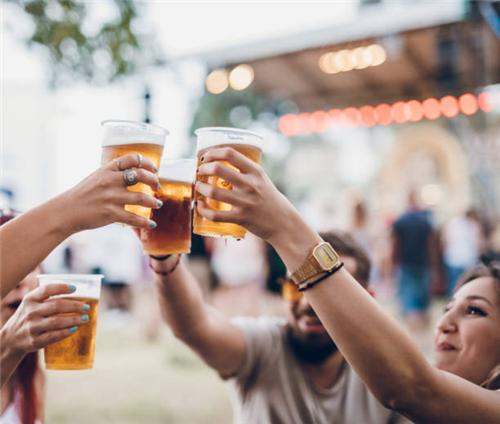alcohol: (188, 126, 258, 238), (98, 118, 165, 226), (36, 274, 102, 372), (138, 164, 195, 260)
